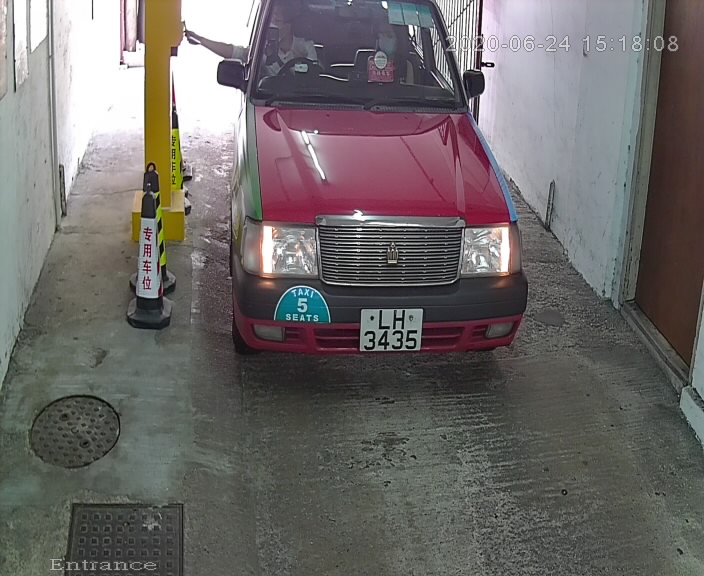Car: (202, 1, 548, 382)
License Plate: (353, 302, 431, 361)
